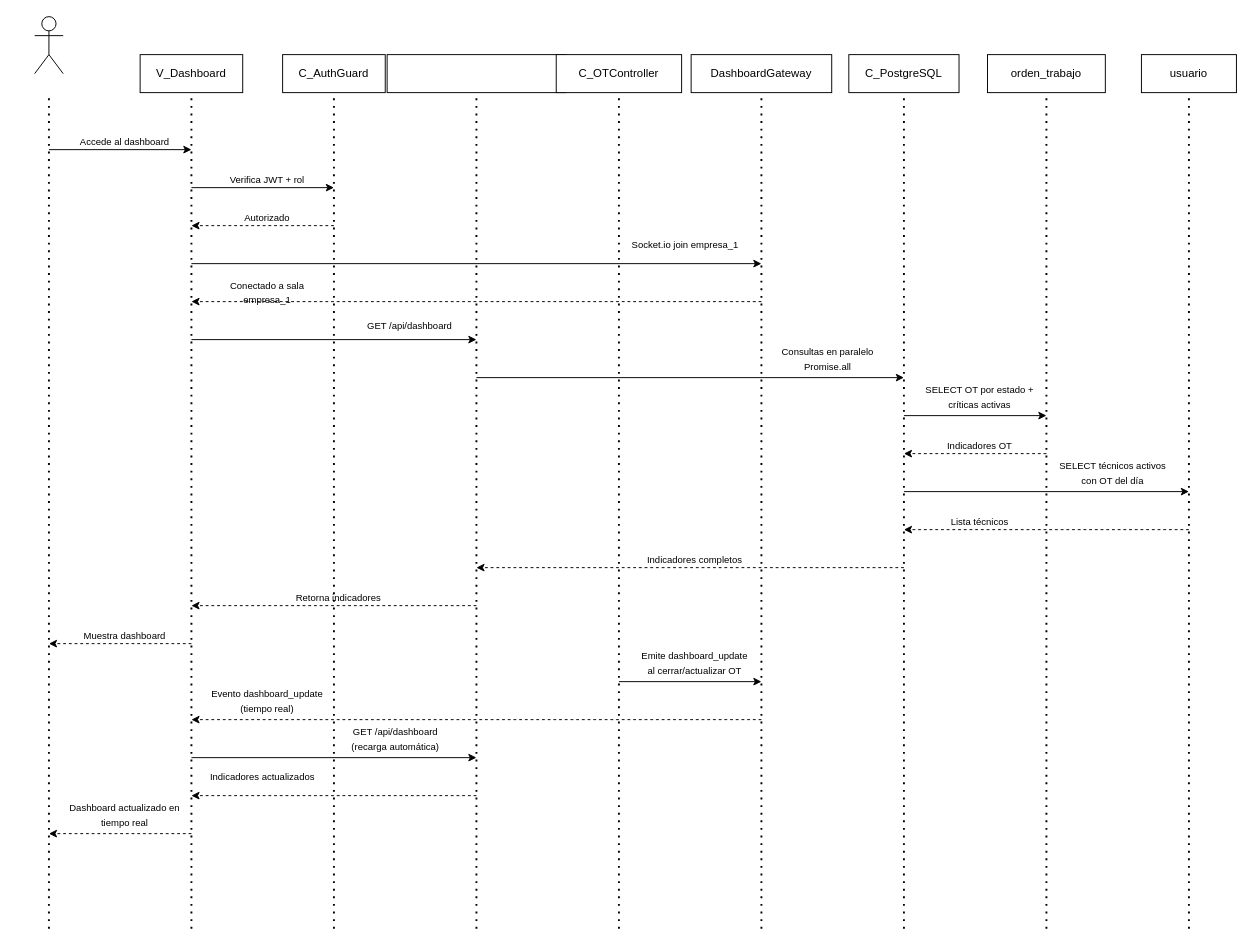
Image size: 1253x947. Some labels were removed from this diagram. Here are the shapes that lost their labels. From the top down, the box of each, then its label:
(34, 16, 63, 74): Jefe Técnico
(386, 54, 566, 93): C_DashboardController
